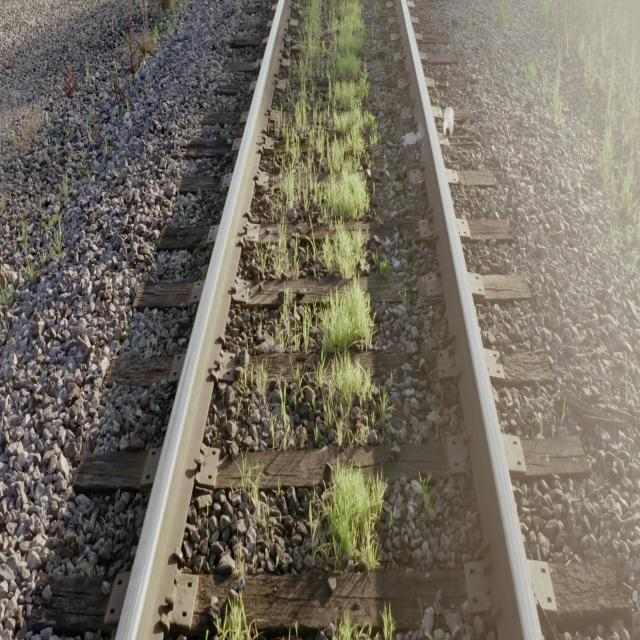Plant: (270, 0, 379, 442), (275, 0, 372, 444), (321, 462, 386, 569), (254, 216, 310, 282), (270, 371, 316, 447), (214, 591, 258, 640), (215, 593, 258, 640), (335, 611, 372, 640), (279, 222, 291, 269), (381, 604, 396, 640), (245, 471, 259, 502), (260, 376, 266, 387)
